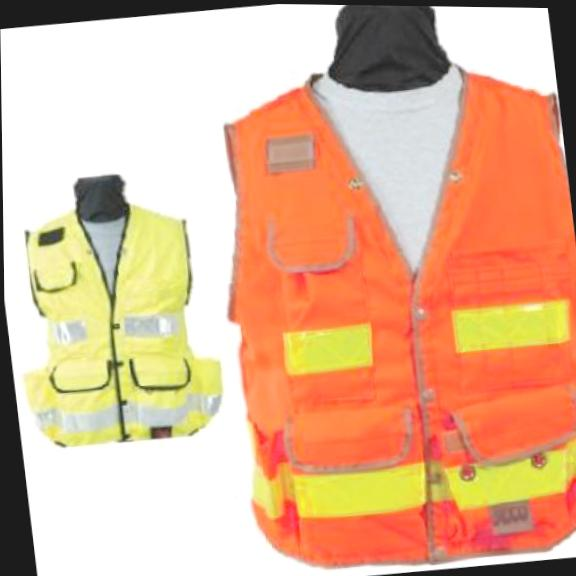safety_vest: (199, 47, 576, 576), (7, 195, 229, 460)
